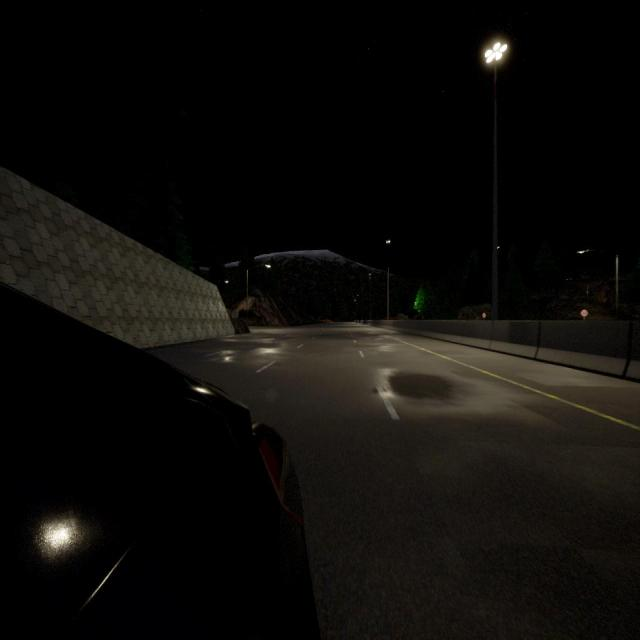Traffic_Signs: (581, 309, 587, 319), (232, 309, 238, 319), (481, 312, 487, 319)
Vehicle: (0, 278, 306, 640)
